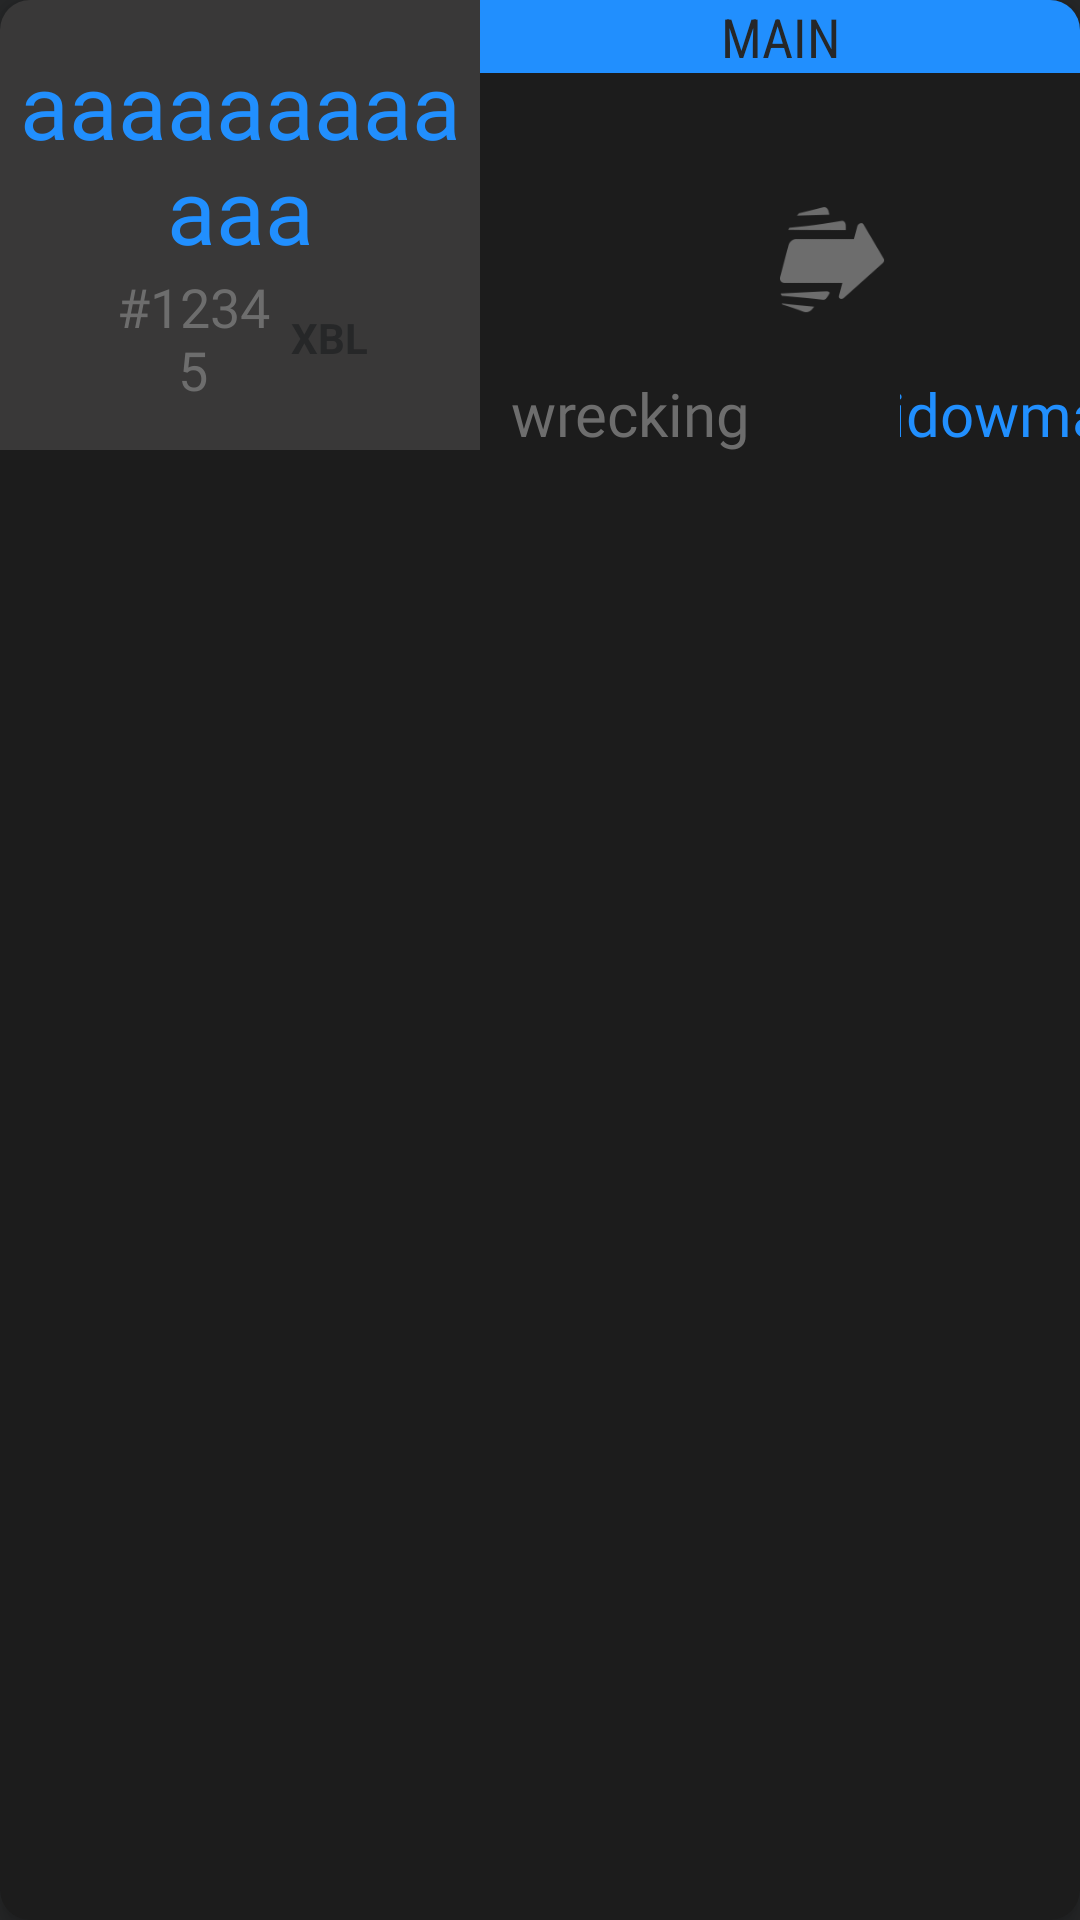

Where to tap for icons on this 1080*1920 app screen, as [x,y]:
arrow: [832,259]
